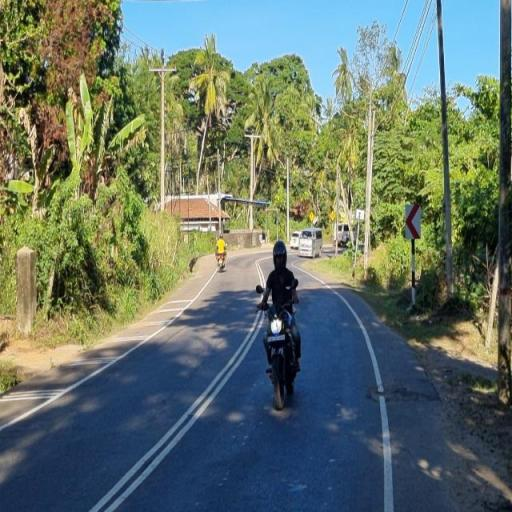double_white_line: (83, 316, 263, 510)
